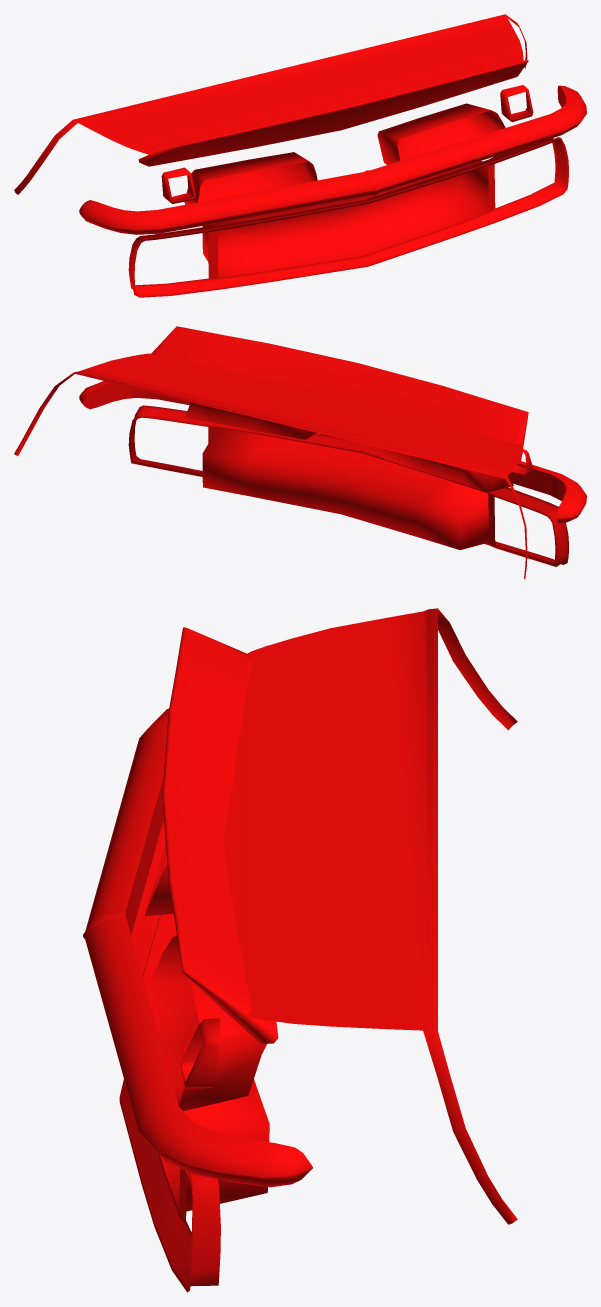
The model's file is Camaro_FB01_Trim.fbx.
3 renders of one model, top to bottom at view 1: azimuth 30°, elevation 25°; view 2: azimuth 150°, elevation 25°; view 3: azimuth 270°, elevation 25°, orthographic. The views are drawn at different scales.
Visible parts, largest first — view 1: Camaro_FB01_Trim; view 2: Camaro_FB01_Trim; view 3: Camaro_FB01_Trim.
Part boxes in pixels (x1,y1,x2,y2): Camaro_FB01_Trim: (14,14,586,297); Camaro_FB01_Trim: (14,326,586,579); Camaro_FB01_Trim: (83,608,517,1292).
Bounding box in the file's own units: 1.83 × 0.6768 × 0.5306.
